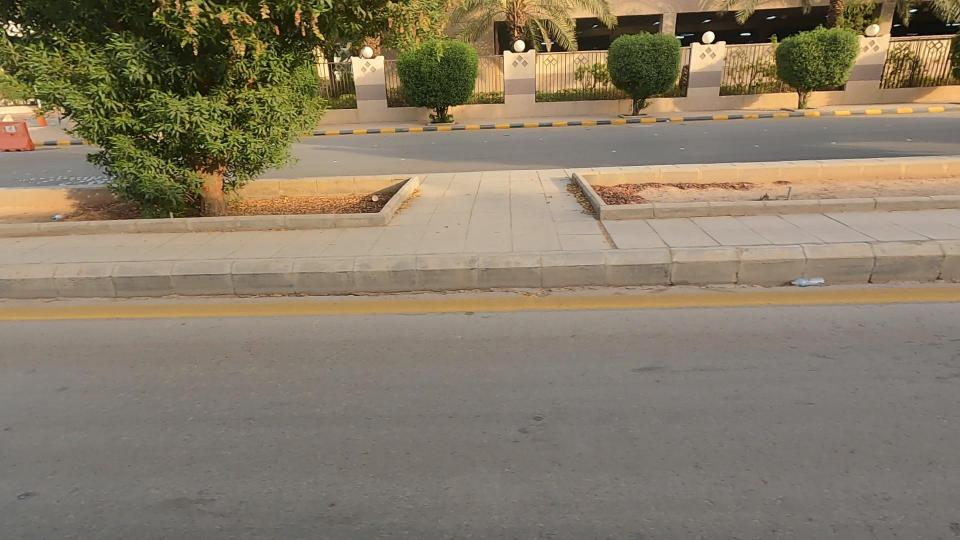GARBAGE: (16, 195, 124, 242), (758, 259, 860, 304)
